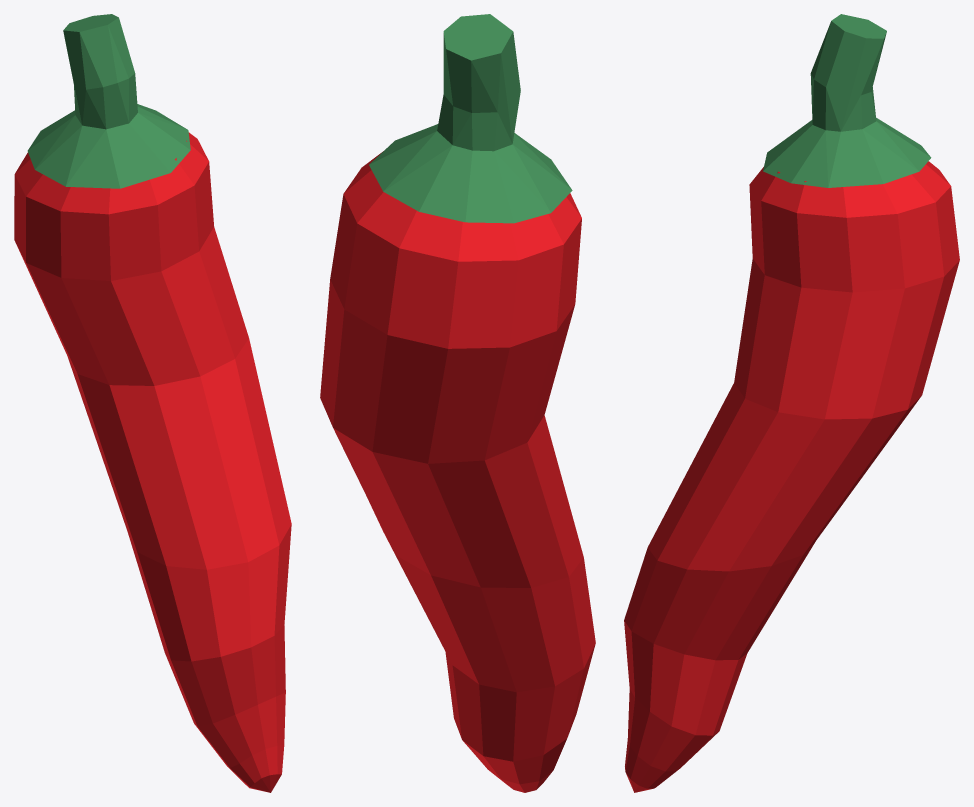
File: chili.fbx
The picture shows the model from 3 angles, left to right: view 1: azimuth 30°, elevation 25°; view 2: azimuth 150°, elevation 25°; view 3: azimuth 270°, elevation 25°; orthographic projection. The views are drawn at different scales.
Parts seen in each view (by area): view 1: chili; view 2: chili; view 3: chili.
Boxes of the visible parts, x1,y1,x2,y2 form: chili: [14, 14, 291, 792]; chili: [320, 14, 595, 792]; chili: [624, 14, 959, 792].
Bounding box in the file's own units: 0.0775 × 0.2664 × 0.1099.
Materials: 1 (1 with a texture image).
